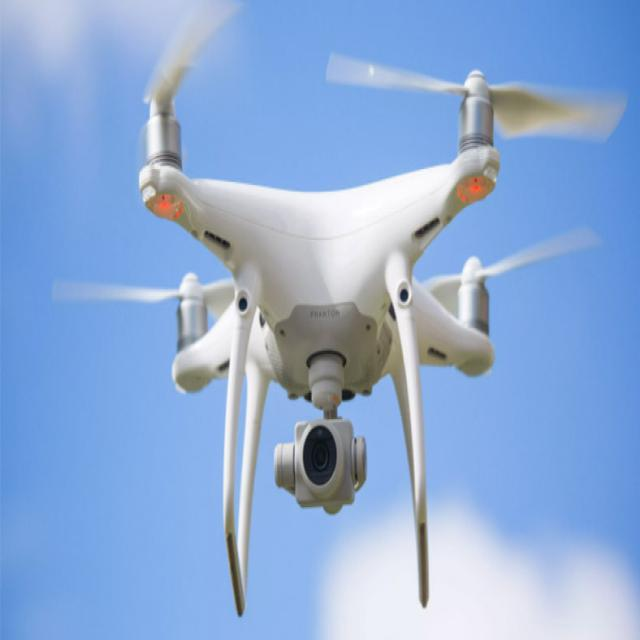drone: (95, 25, 603, 449)
